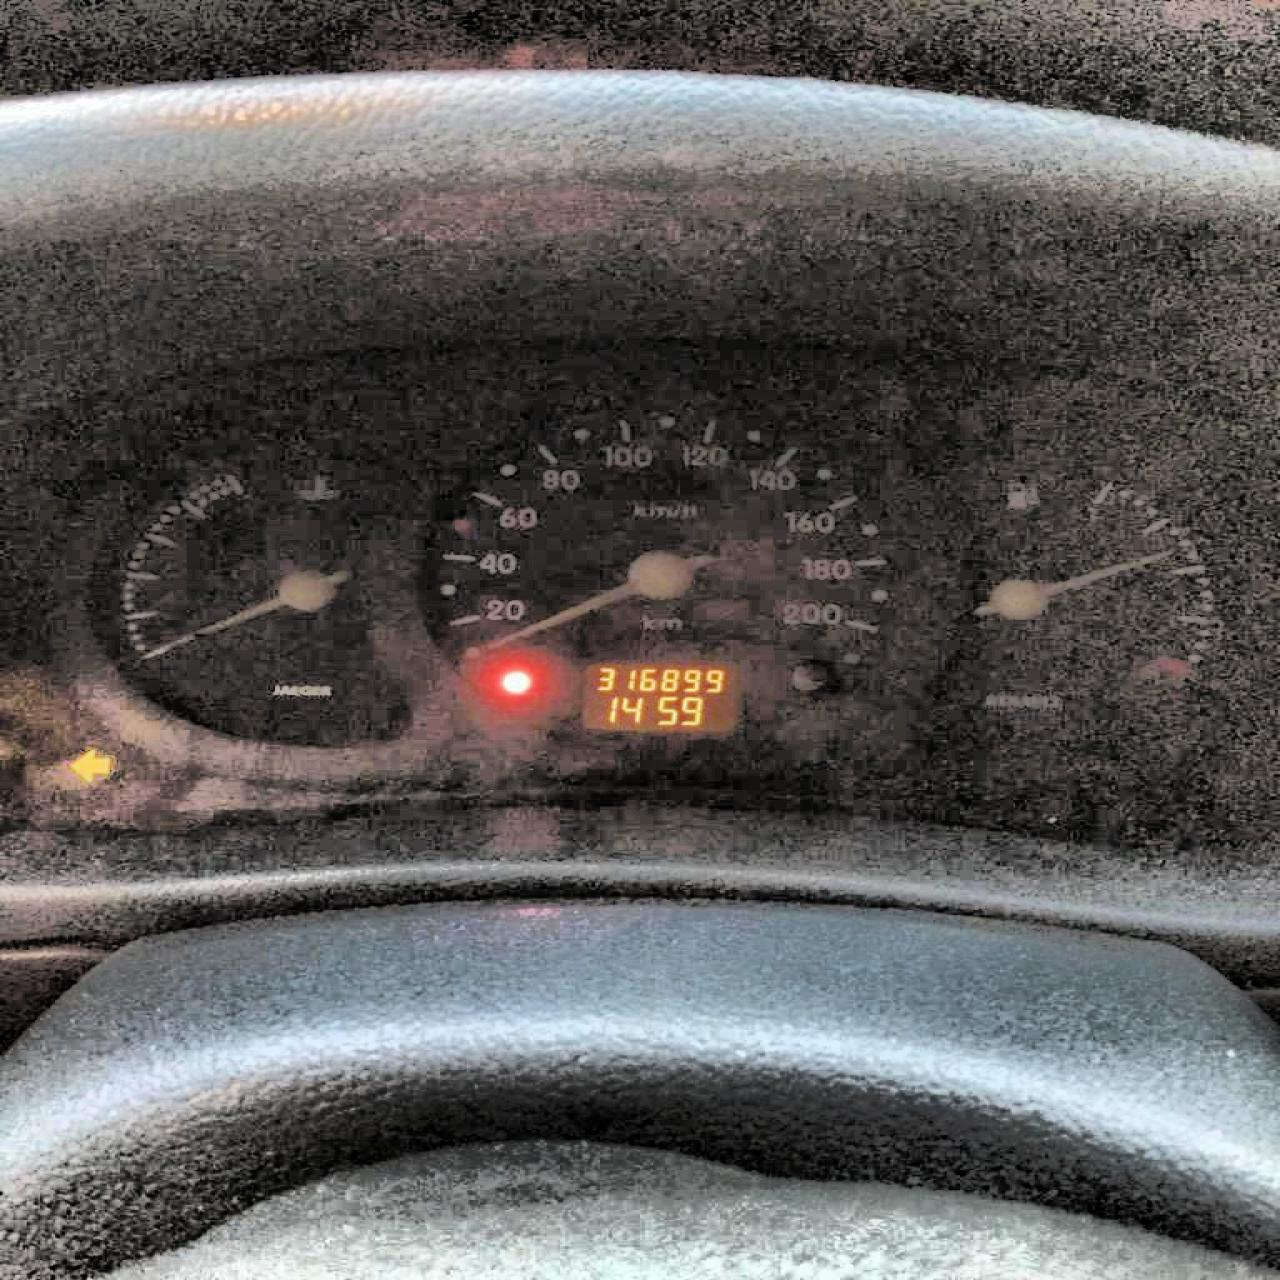1: (605, 694, 617, 724), (624, 668, 636, 690)
3: (593, 665, 614, 692)
4: (618, 695, 640, 723)
5: (653, 695, 676, 726)
6: (636, 667, 656, 692)
8: (659, 667, 679, 692)
9: (680, 695, 703, 726), (701, 667, 722, 693), (680, 667, 700, 693)
odometer: (572, 656, 748, 738)
